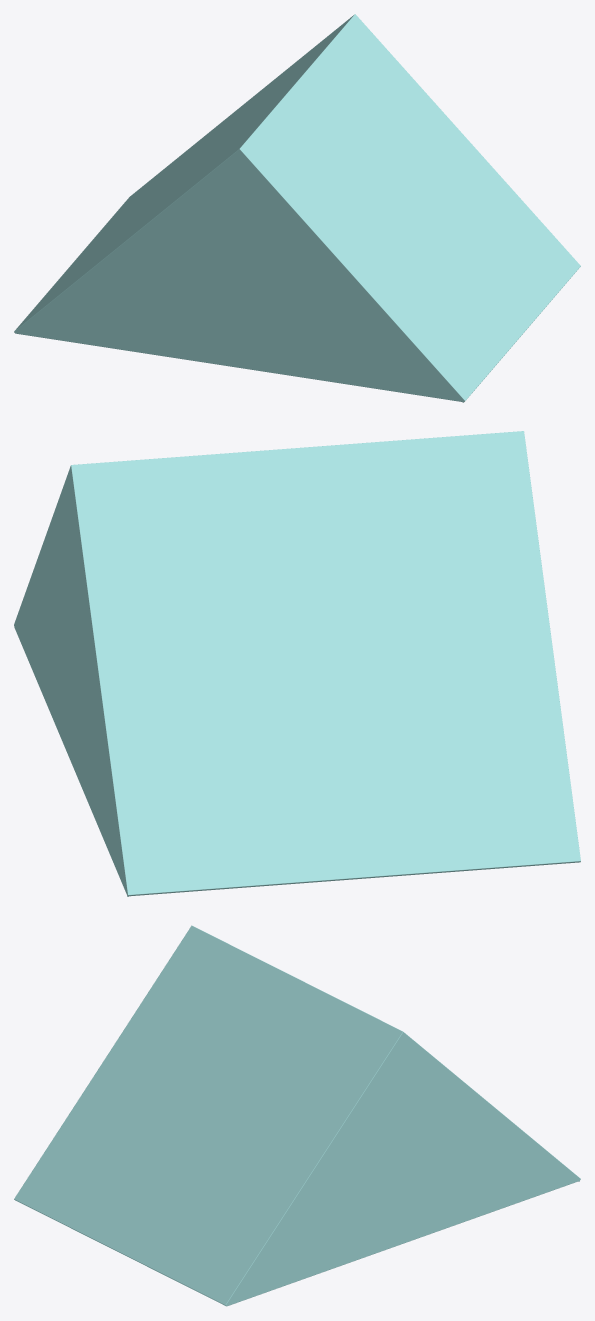
File: Striker5.glb
3 views of the same model, one above another, from view 1: azimuth 30°, elevation 25°; view 2: azimuth 150°, elevation 25°; view 3: azimuth 270°, elevation 25° (orthographic). The views are drawn at different scales.
Parts seen in each view (by area): view 1: Cube; view 2: Cube; view 3: Cube.
Part boxes in pixels (x1,y1,x2,y2): Cube: [14, 14, 580, 402]; Cube: [14, 431, 580, 896]; Cube: [14, 925, 580, 1306].
Size of the model in its own units: 3.35 by 1.43 by 3.45.
